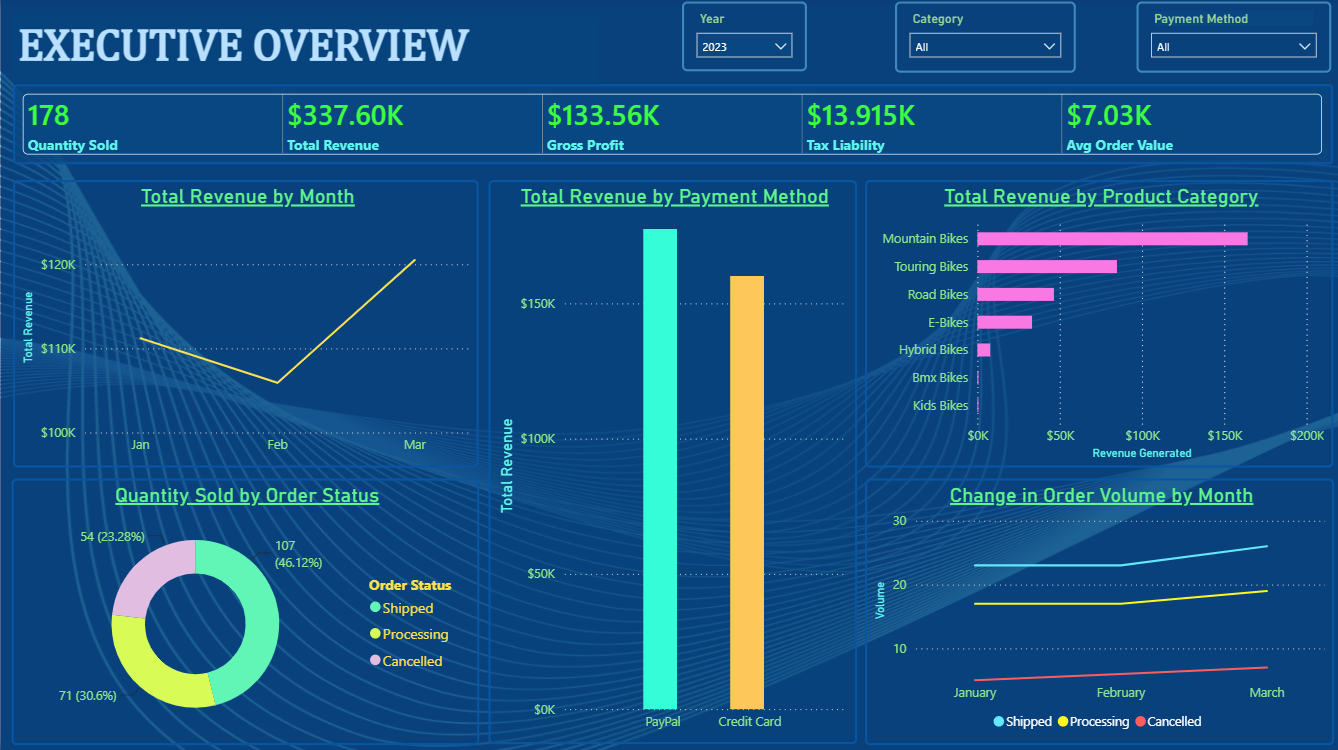

The dashboard page shown, as its layout file describes it:
{"tool":"powerbi","page":{"name":"Executive Overview","canvas":[1280,720],"ordinal":0},"visuals":[{"type":"cardVisual","fields":{"Data":["Measure.Quantity Sold","Measure.Total Revenue","Measure.Total Profit","Measure.Total Tax Due","Measure.Average Order Value"]},"box":[11.9,83.6,1261,77],"z":0},{"type":"slicer","fields":{"Values":["Date.Year"]},"box":[650.4,4,119.5,66.4],"z":1000},{"type":"lineChart","title":"Total Revenue  by Month","fields":{"Category":["Date.Month"],"Y":["Sum(Sales.Sales Amount)"]},"box":[11.9,175.2,444.7,274.8],"z":2000},{"type":"clusteredColumnChart","title":"Total Revenue by Payment Method","fields":{"Category":["Sales.Payment Method"],"Y":["Sum(Sales.Revenue)"]},"box":[465.9,175.2,351.7,538.9],"z":3000},{"type":"donutChart","fields":{"Category":["Sales.Order Status"],"Y":["Sum(Sales.Order Quantity)"]},"box":[10,459.8,446.5,254.9],"z":4000},{"type":"clusteredBarChart","title":"Total Revenue by Product Category ","fields":{"Category":["Sales.Product Category "],"Y":["Sum(Sales.Sales Amount)"]},"box":[825.6,175.2,447.3,274.8],"z":5000},{"type":"slicer","fields":{"Values":["Sales.Product Category "]},"box":[853.5,4,172.6,67.7],"z":6000},{"type":"slicer","fields":{"Values":["Sales.Payment Method"]},"box":[1084.4,4,185.8,67.7],"z":7000},{"type":"lineChart","title":"Change in Order Volume by Month","fields":{"Category":["Date.Date.Variation.Date Hierarchy.Month"],"Y":["Measure.Total Shipped Order","Measure.Total Orders Under Process","Measure.Total Cancelled Order"]},"box":[825.2,460.3,448.2,254.4],"z":8000},{"type":"textbox","box":[11.9,18.6,558.8,65],"z":8001}]}

Visuals, with their boxes in screenshot pixels (x1, y1, x2, y2), scaled from the page's 1280x720 canvas onto the 1338x750 screenshot:
cardVisual - Measure.Quantity Sold x Measure.Total Revenue: <bbox>12, 87, 1331, 167</bbox>
slicer - Date.Year: <bbox>680, 4, 805, 73</bbox>
"Total Revenue  by Month" lineChart: <bbox>12, 182, 477, 469</bbox>
"Total Revenue by Payment Method" clusteredColumnChart: <bbox>487, 182, 855, 744</bbox>
donutChart - Sales.Order Status x Sum(Sales.Order Quantity): <bbox>10, 479, 477, 744</bbox>
"Total Revenue by Product Category " clusteredBarChart: <bbox>863, 182, 1331, 469</bbox>
slicer - Sales.Product Category : <bbox>892, 4, 1073, 75</bbox>
slicer - Sales.Payment Method: <bbox>1134, 4, 1328, 75</bbox>
"Change in Order Volume by Month" lineChart: <bbox>863, 479, 1331, 744</bbox>
textbox: <bbox>12, 19, 597, 87</bbox>
